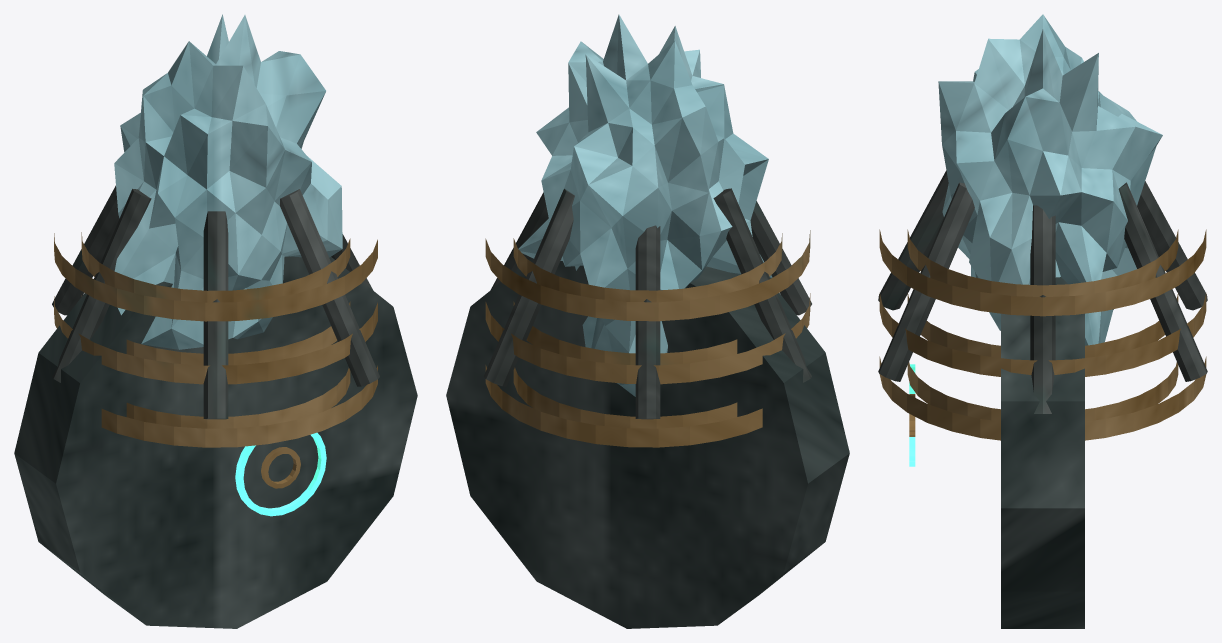
Rendered from 0987_offering_relic_12.glb.
3 renders of one model, left to right at view 1: azimuth 30°, elevation 25°; view 2: azimuth 150°, elevation 25°; view 3: azimuth 270°, elevation 25°, orthographic.
Visible parts, largest first — view 1: stone_dark, ice, brass, iron, glow; view 2: stone_dark, ice, brass, iron; view 3: ice, brass, stone_dark, iron.
Boxes of the visible parts, x1,y1,x2,y2 form: stone_dark: [14, 256, 417, 628]; ice: [114, 14, 342, 349]; brass: [54, 232, 377, 488]; iron: [52, 185, 379, 419]; glow: [235, 432, 326, 516]; stone_dark: [446, 257, 849, 628]; ice: [518, 14, 772, 396]; brass: [485, 230, 810, 447]; iron: [484, 188, 811, 419]; ice: [938, 14, 1162, 345]; brass: [879, 229, 1206, 440]; stone_dark: [1001, 277, 1084, 628]; iron: [878, 170, 1207, 413].
Size of the model in its own units: 0.9 by 1.41 by 0.7056.
Materials: 5 (5 with a texture image).
